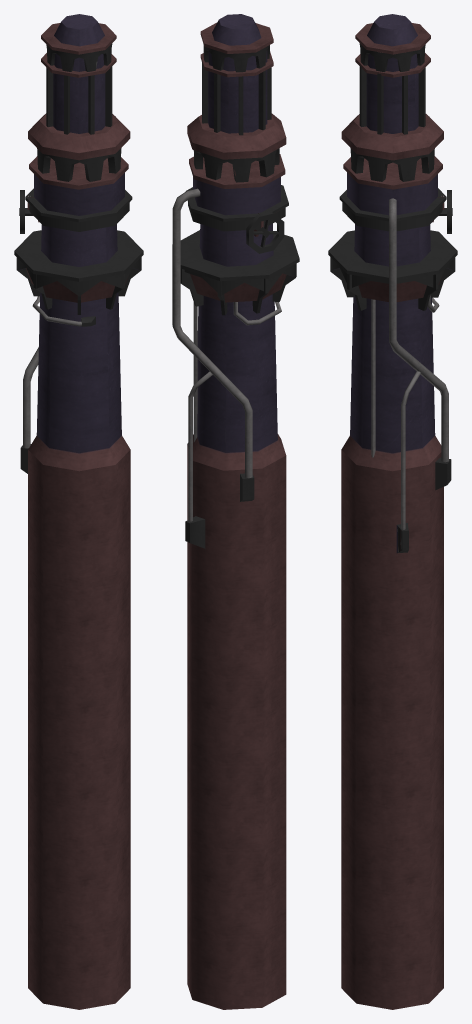
The model's file is ETC0710017.fbx.
3 renders of one model, left to right at view 1: azimuth 90°, elevation 25°; view 2: azimuth 210°, elevation 25°; view 3: azimuth 270°, elevation 25°, orthographic.
Parts seen in each view (by area): view 1: smETC0710017; view 2: smETC0710017; view 3: smETC0710017.
Part boxes in pixels (<box>): smETC0710017: <box>14,14,143,1009</box>; smETC0710017: <box>172,14,299,1009</box>; smETC0710017: <box>328,14,457,1009</box>.
Size of the model in its own units: 1504 by 11564 by 1405.
1 material, 1 textured.
